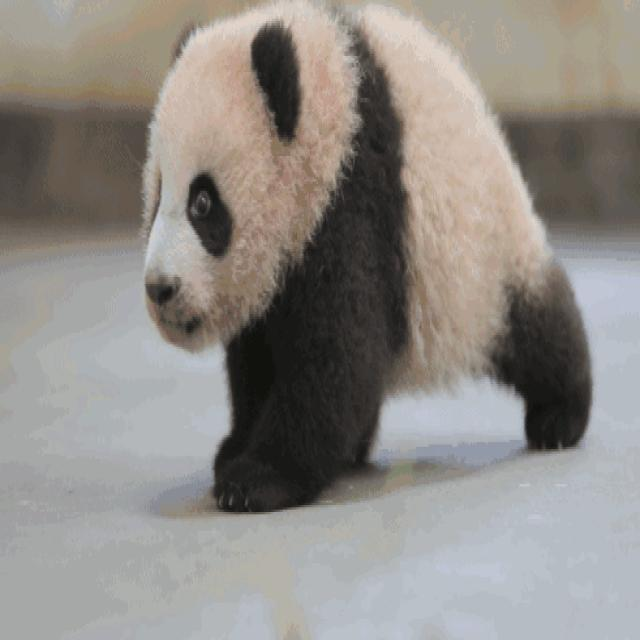panda: (138, 1, 596, 519)
